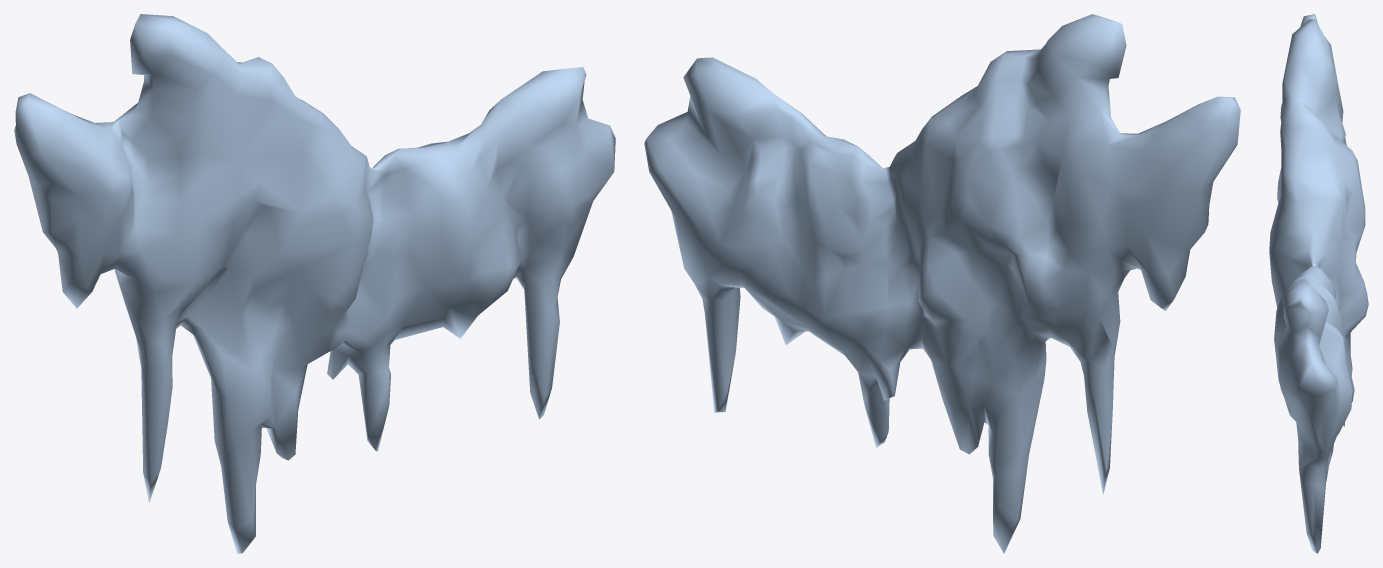
Rendered from IciclesSmall_Cables_01.fbx.
3 renders of one model, left to right at view 1: azimuth 30°, elevation 25°; view 2: azimuth 150°, elevation 25°; view 3: azimuth 270°, elevation 25°, orthographic. The views are drawn at different scales.
Visible parts, largest first — view 1: IciclesSmall_Cables_01.001; view 2: IciclesSmall_Cables_01.001; view 3: IciclesSmall_Cables_01.001.
Part boxes in pixels (x1,y1,x2,y2): IciclesSmall_Cables_01.001: [14, 14, 615, 553]; IciclesSmall_Cables_01.001: [644, 14, 1240, 553]; IciclesSmall_Cables_01.001: [1269, 14, 1368, 553].
Bounding box in the file's own units: 0.5618 × 0.5033 × 0.1044.
